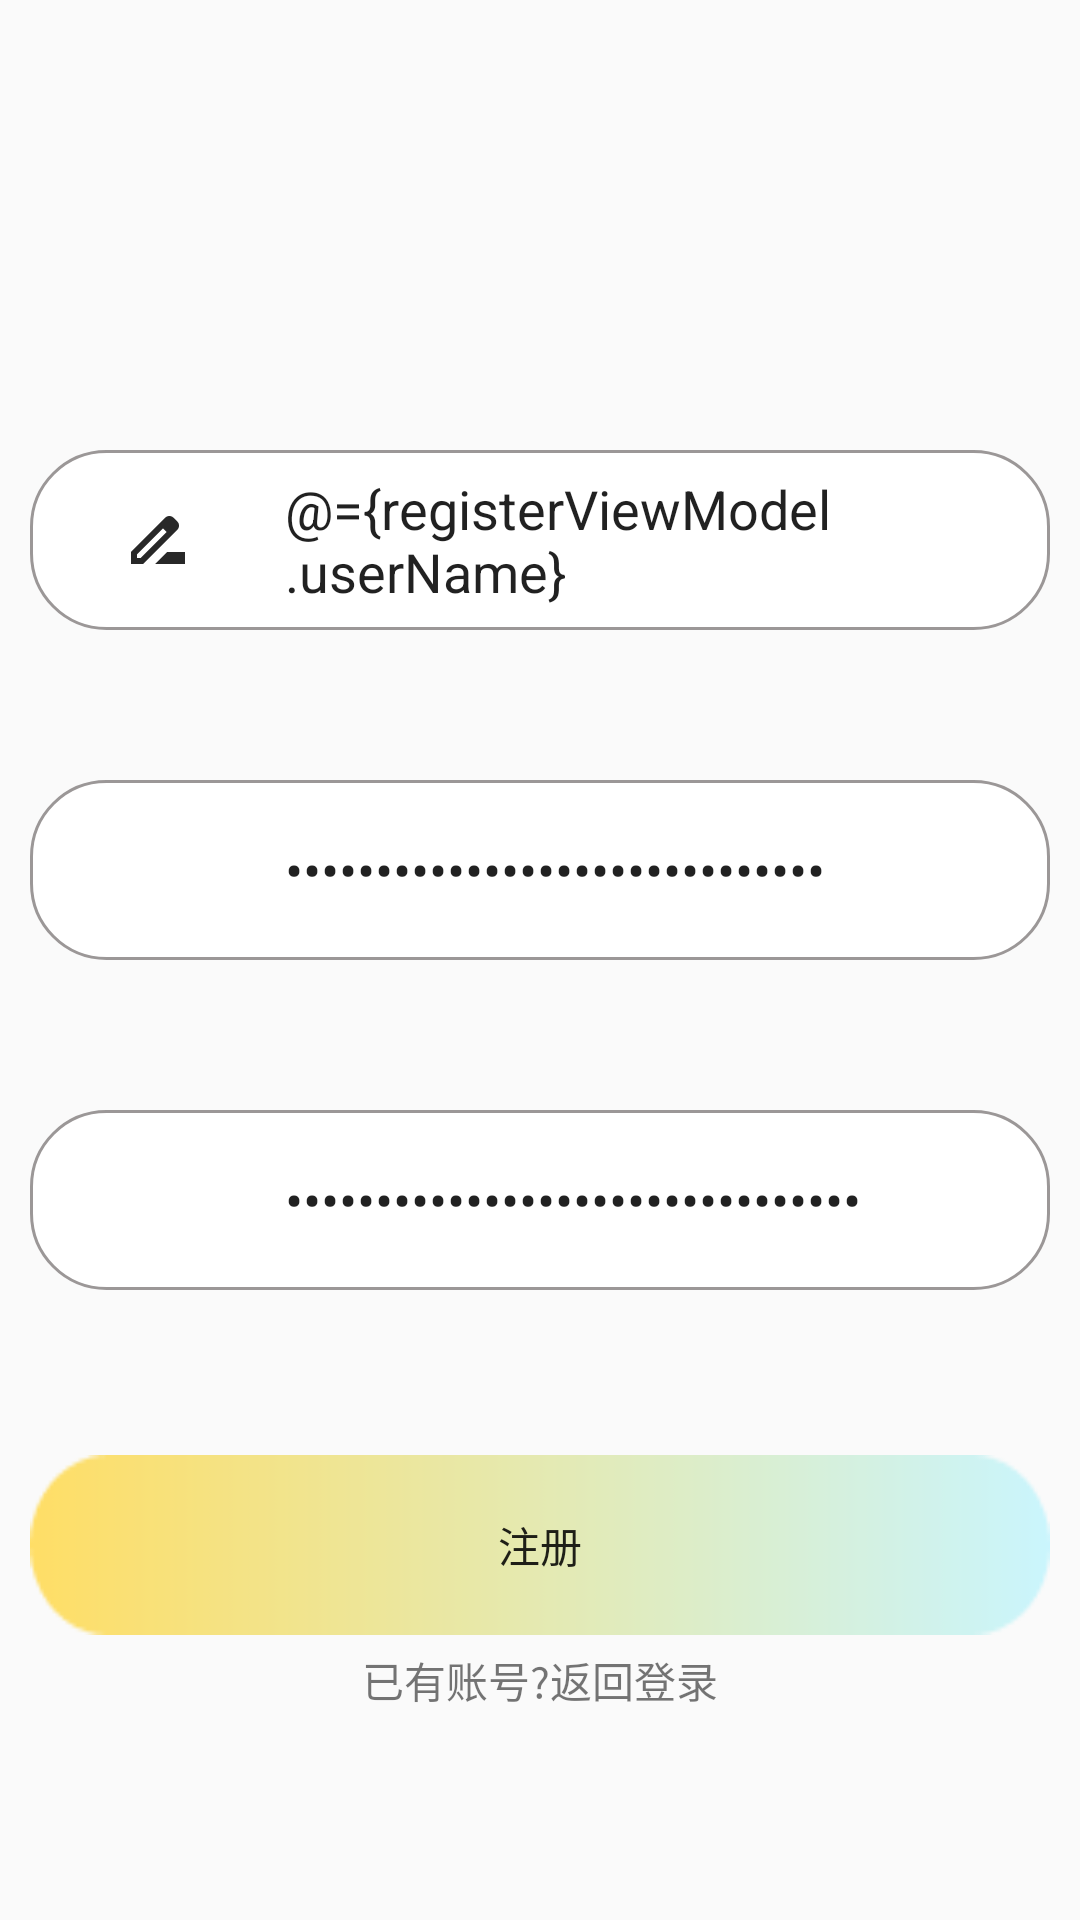

Where icons sit on this 1080px x 1920px app screen, as (x1, y1, x2, y2):
drive file rename: (30, 450, 285, 630)
